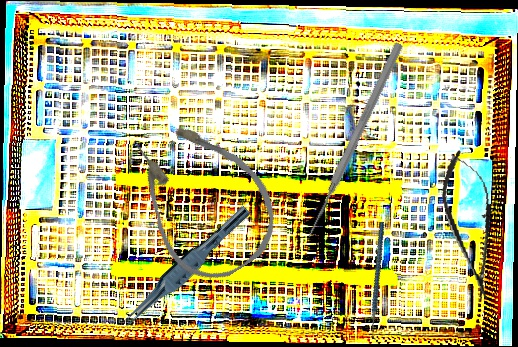Cannula: (109, 98, 297, 297)
Chopper: (335, 221, 424, 344)
Micro Scissor: (434, 146, 508, 306)
Pusher: (302, 40, 406, 241)
Tissue Forceps: (119, 198, 252, 335)
